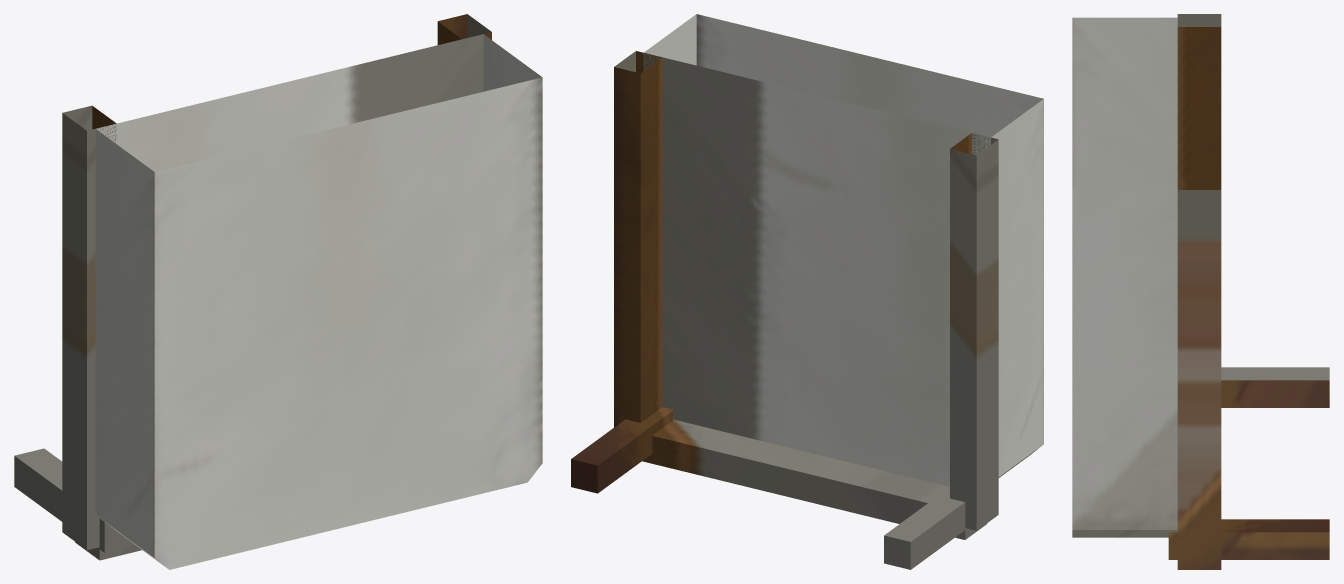
The model's file is pz_bed_bedding_01_simple_0_0.obj.
3 views of the same model, side by side, from view 1: azimuth 30°, elevation 25°; view 2: azimuth 150°, elevation 25°; view 3: azimuth 270°, elevation 25° (orthographic). The views are drawn at different scales.
Size of the model in its own units: 0.95 by 0.97 by 0.5869.
1 material, 1 textured.
